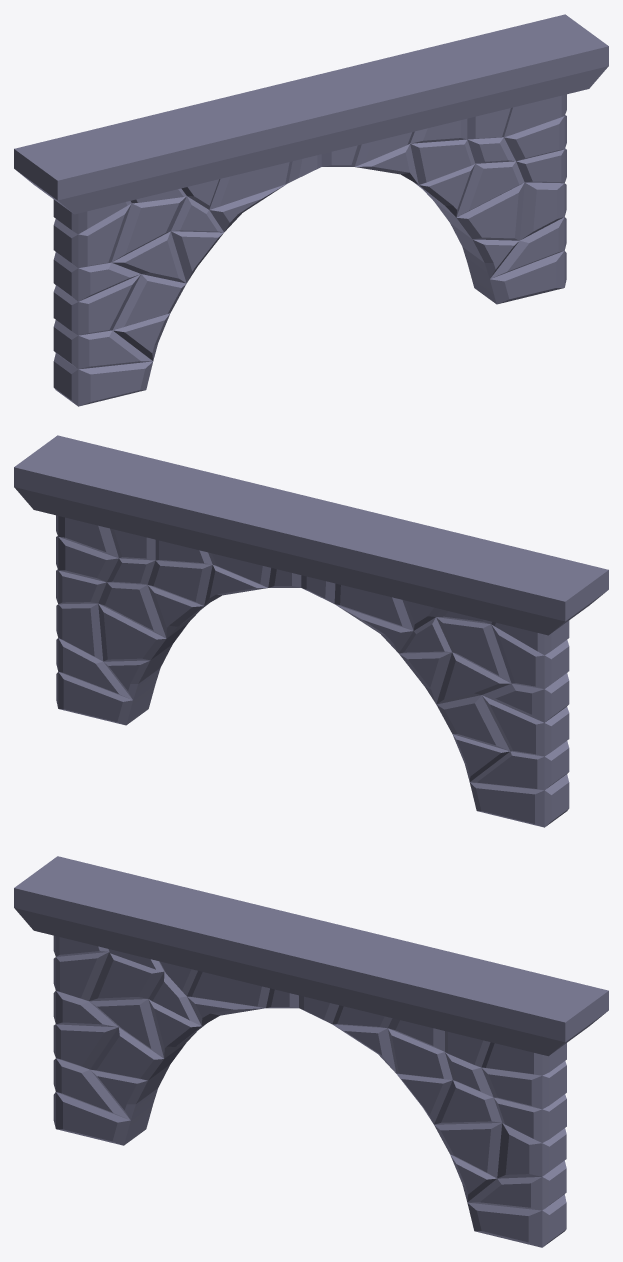
File: stonehenge.fbx
3 renders of one model, top to bottom at view 1: azimuth 30°, elevation 25°; view 2: azimuth 150°, elevation 25°; view 3: azimuth 330°, elevation 25°, orthographic.
Visible parts, largest first — view 1: stone_arc; view 2: stone_arc; view 3: stone_arc.
Part boxes in pixels (bbox=[...]): stone_arc: bbox=[14, 14, 608, 406]; stone_arc: bbox=[14, 435, 608, 827]; stone_arc: bbox=[14, 856, 608, 1247].
Bounding box in the file's own units: 8.81 × 3.68 × 1.21.
